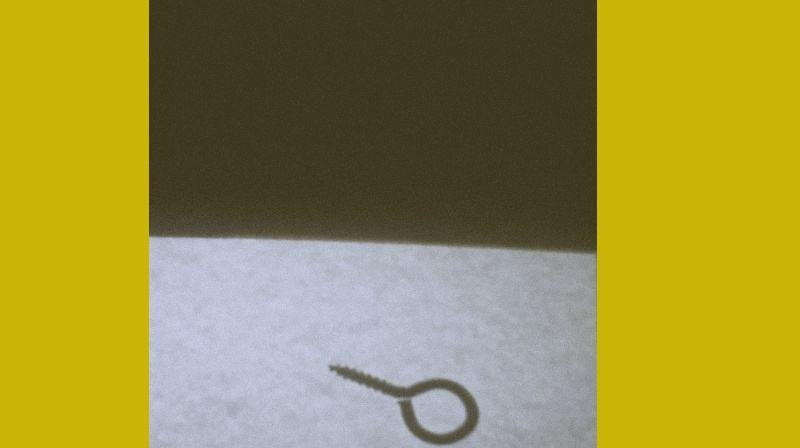O001: (325, 360, 483, 447)
